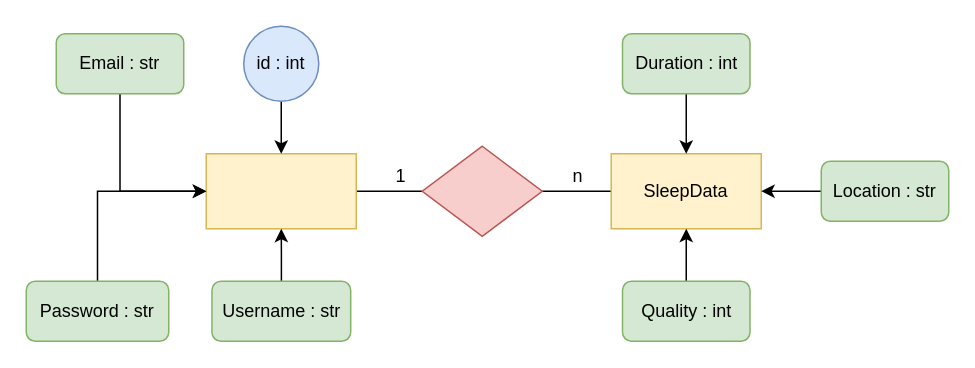
Image size: 975x368. Some labels were removed from this diagram. Each missing label, with the box of its shape:
has: (421, 145, 542, 236)
User: (205, 152, 356, 229)
